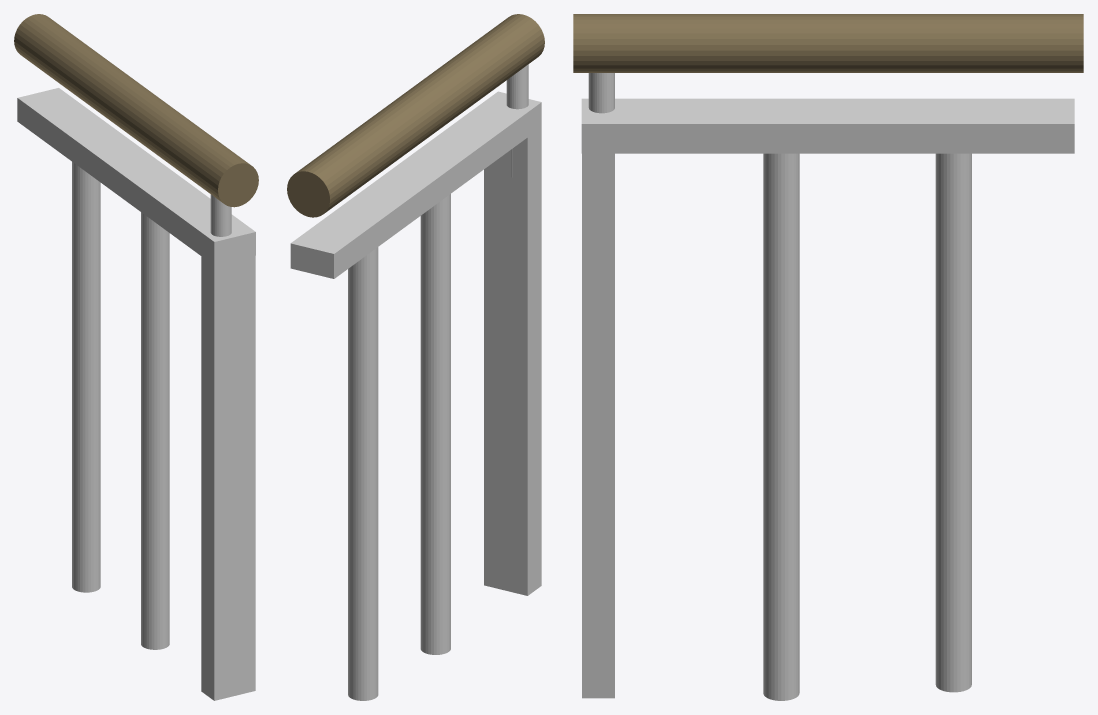
File: GelænderEnde.fbx
3 renders of one model, left to right at view 1: azimuth 30°, elevation 25°; view 2: azimuth 150°, elevation 25°; view 3: azimuth 270°, elevation 25°, orthographic. The views are drawn at different scales.
Visible parts, largest first — view 1: Cube.005, Cylinder, Cube.001, Cylinder.019, Cylinder.020, Cylinder.005; view 2: Cube.005, Cube.001, Cylinder, Cylinder.019, Cylinder.020, Cylinder.005; view 3: Cylinder, Cube.001, Cylinder.019, Cylinder.020, Cube.005, Cylinder.005.
Boxes of the visible parts, box(x1,y1,x2,y2) form: Cube.005: box(201, 248, 255, 700); Cylinder: box(14, 14, 258, 207); Cube.001: box(17, 88, 255, 265); Cylinder.019: box(141, 212, 169, 649); Cylinder.020: box(72, 162, 100, 592); Cylinder.005: box(210, 194, 231, 236); Cube.005: box(484, 127, 541, 595); Cube.001: box(290, 91, 541, 278); Cylinder: box(287, 14, 544, 217); Cylinder.019: box(420, 194, 450, 654); Cylinder.020: box(348, 247, 378, 700); Cylinder.005: box(506, 64, 528, 177); Cylinder: box(573, 14, 1083, 72); Cube.001: box(581, 98, 1074, 153); Cylinder.019: box(763, 153, 799, 700); Cylinder.020: box(935, 153, 971, 692); Cube.005: box(582, 142, 614, 698); Cylinder.005: box(588, 73, 614, 113).
Size of the model in its own units: 18.2 by 227 by 155.
